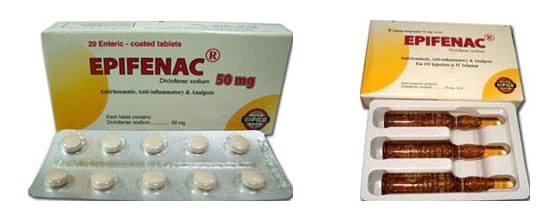Medicine: (38, 17, 294, 134), (361, 18, 526, 106), (379, 168, 519, 199), (379, 139, 511, 162), (378, 109, 506, 132)
